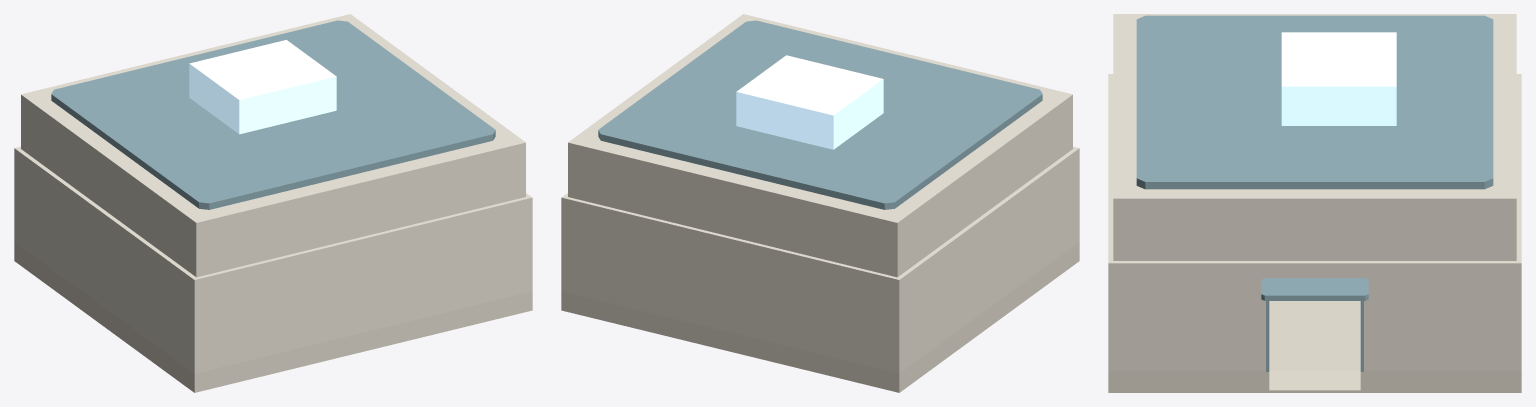
File: Halo_Clinic_ShadowProxy.glb
3 renders of one model, left to right at view 1: azimuth 30°, elevation 25°; view 2: azimuth 150°, elevation 25°; view 3: azimuth 270°, elevation 25°, orthographic. The views are drawn at different scales.
Visible parts, largest first — view 1: Halo_Clinic_ShadowProxy / Structure, Halo_Clinic_ShadowProxy / Roof, Halo_Clinic_ShadowProxy / Foundation; view 2: Halo_Clinic_ShadowProxy / Structure, Halo_Clinic_ShadowProxy / Roof, Halo_Clinic_ShadowProxy / Foundation; view 3: Halo_Clinic_ShadowProxy / Structure, Halo_Clinic_ShadowProxy / Roof, Halo_Clinic_ShadowProxy / Foundation, Halo_Clinic_ShadowProxy / Entrance modules.
Part boxes in pixels (bbox=[...]): Halo_Clinic_ShadowProxy / Structure: bbox=[14, 14, 532, 373]; Halo_Clinic_ShadowProxy / Roof: bbox=[51, 20, 495, 209]; Halo_Clinic_ShadowProxy / Foundation: bbox=[14, 242, 532, 392]; Halo_Clinic_ShadowProxy / Structure: bbox=[561, 14, 1079, 373]; Halo_Clinic_ShadowProxy / Roof: bbox=[598, 20, 1042, 209]; Halo_Clinic_ShadowProxy / Foundation: bbox=[561, 242, 1079, 392]; Halo_Clinic_ShadowProxy / Structure: bbox=[1108, 14, 1521, 370]; Halo_Clinic_ShadowProxy / Roof: bbox=[1136, 15, 1493, 189]; Halo_Clinic_ShadowProxy / Foundation: bbox=[1108, 301, 1521, 392]; Halo_Clinic_ShadowProxy / Entrance modules: bbox=[1261, 278, 1368, 392].
Size of the model in its own units: 14.2 by 7.65 by 12.
